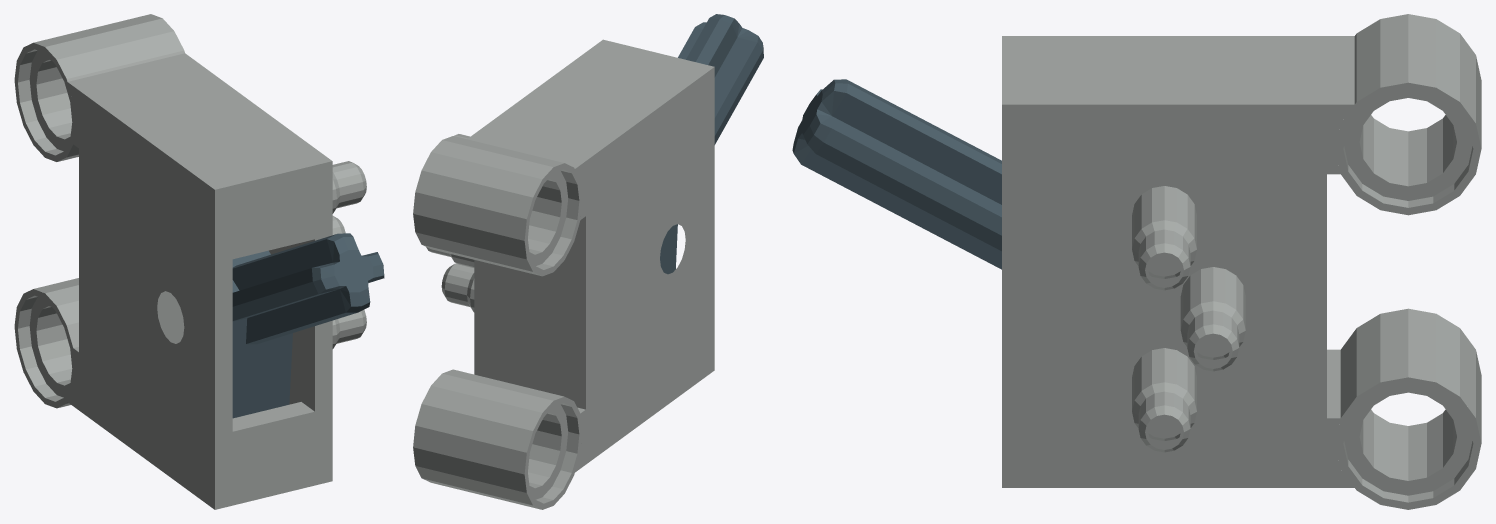
The picture shows the model from 3 angles, left to right: view 1: azimuth 30°, elevation 25°; view 2: azimuth 150°, elevation 25°; view 3: azimuth 270°, elevation 25°; orthographic projection. The views are drawn at different scales.
Visible parts, largest first — view 1: world; view 2: world; view 3: world.
Part boxes in pixels (box(x1,y1,x2,y2)): world: box(14, 14, 384, 509); world: box(413, 14, 763, 509); world: box(792, 14, 1481, 509).
Bounding box in the file's own units: 0.0144 × 0.0232 × 0.0339.
